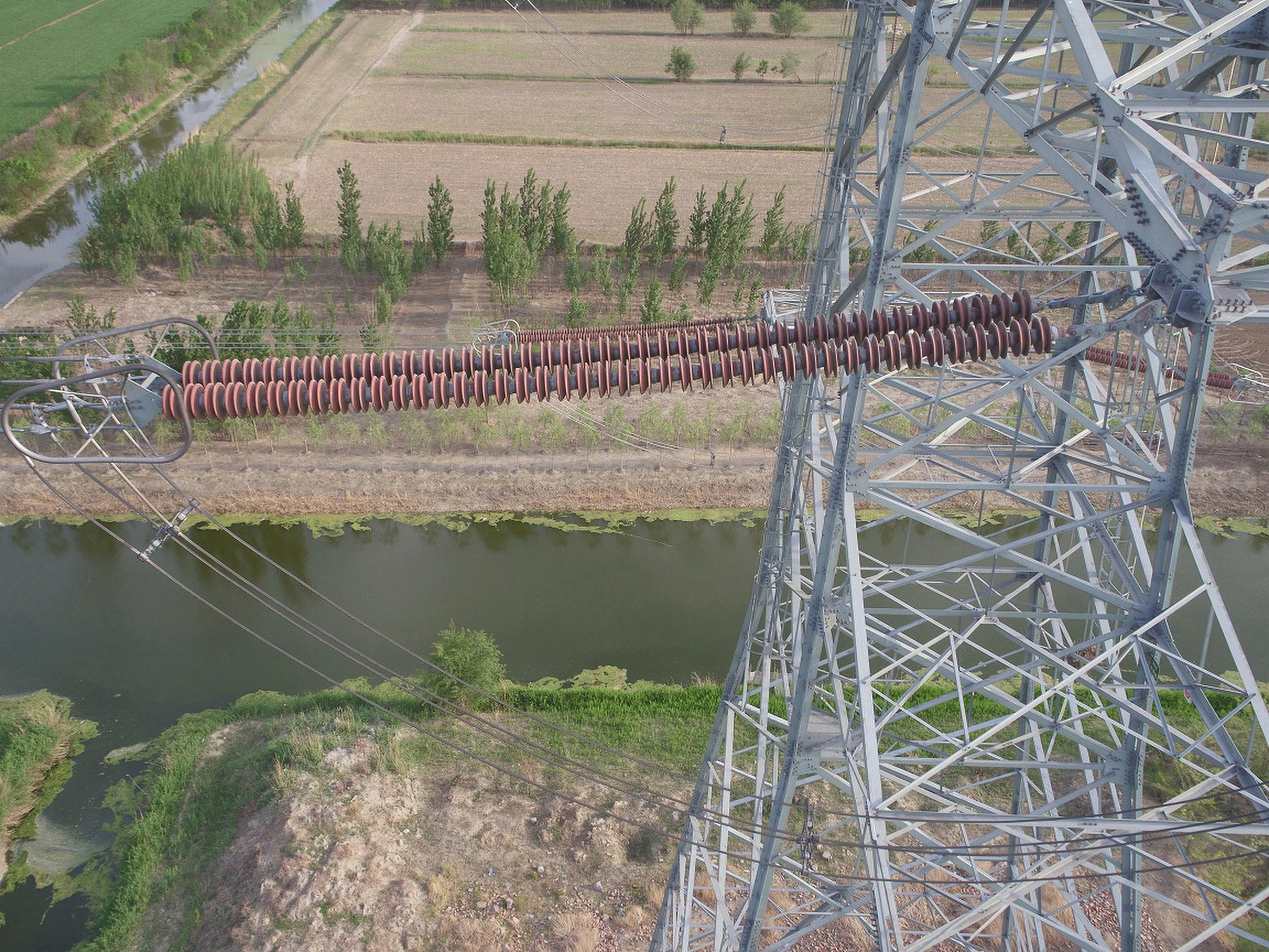insulator: (159, 285, 1054, 425), (1083, 344, 1236, 392), (509, 313, 736, 345)
